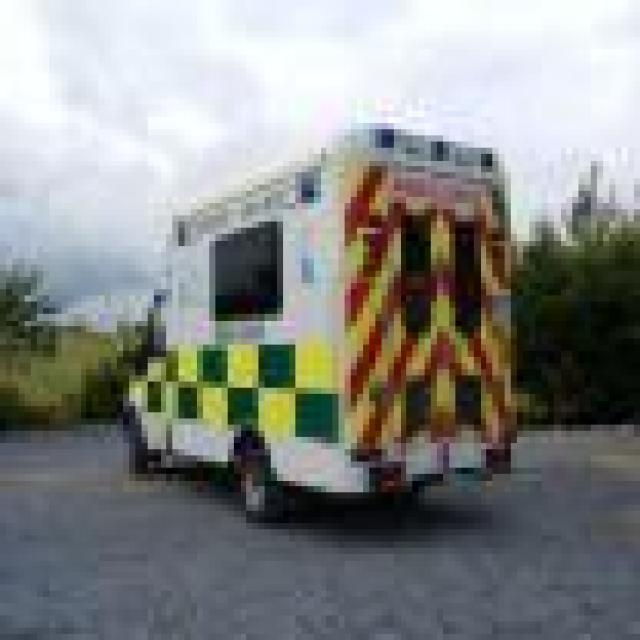emergency-vehicle: (59, 138, 606, 557)
